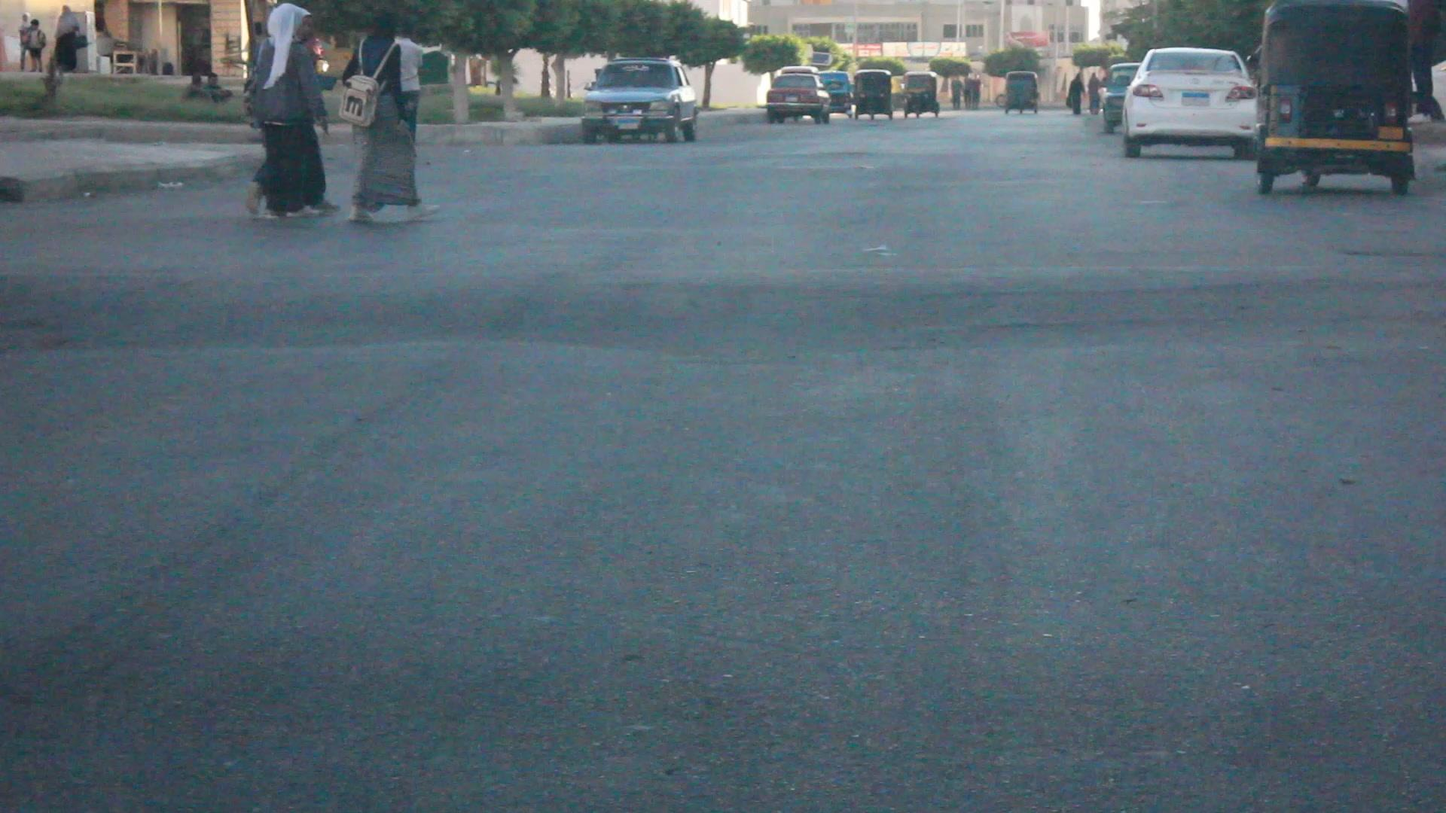Bump: (2, 254, 1446, 365)
